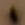cockroach: (9, 5, 19, 24)
